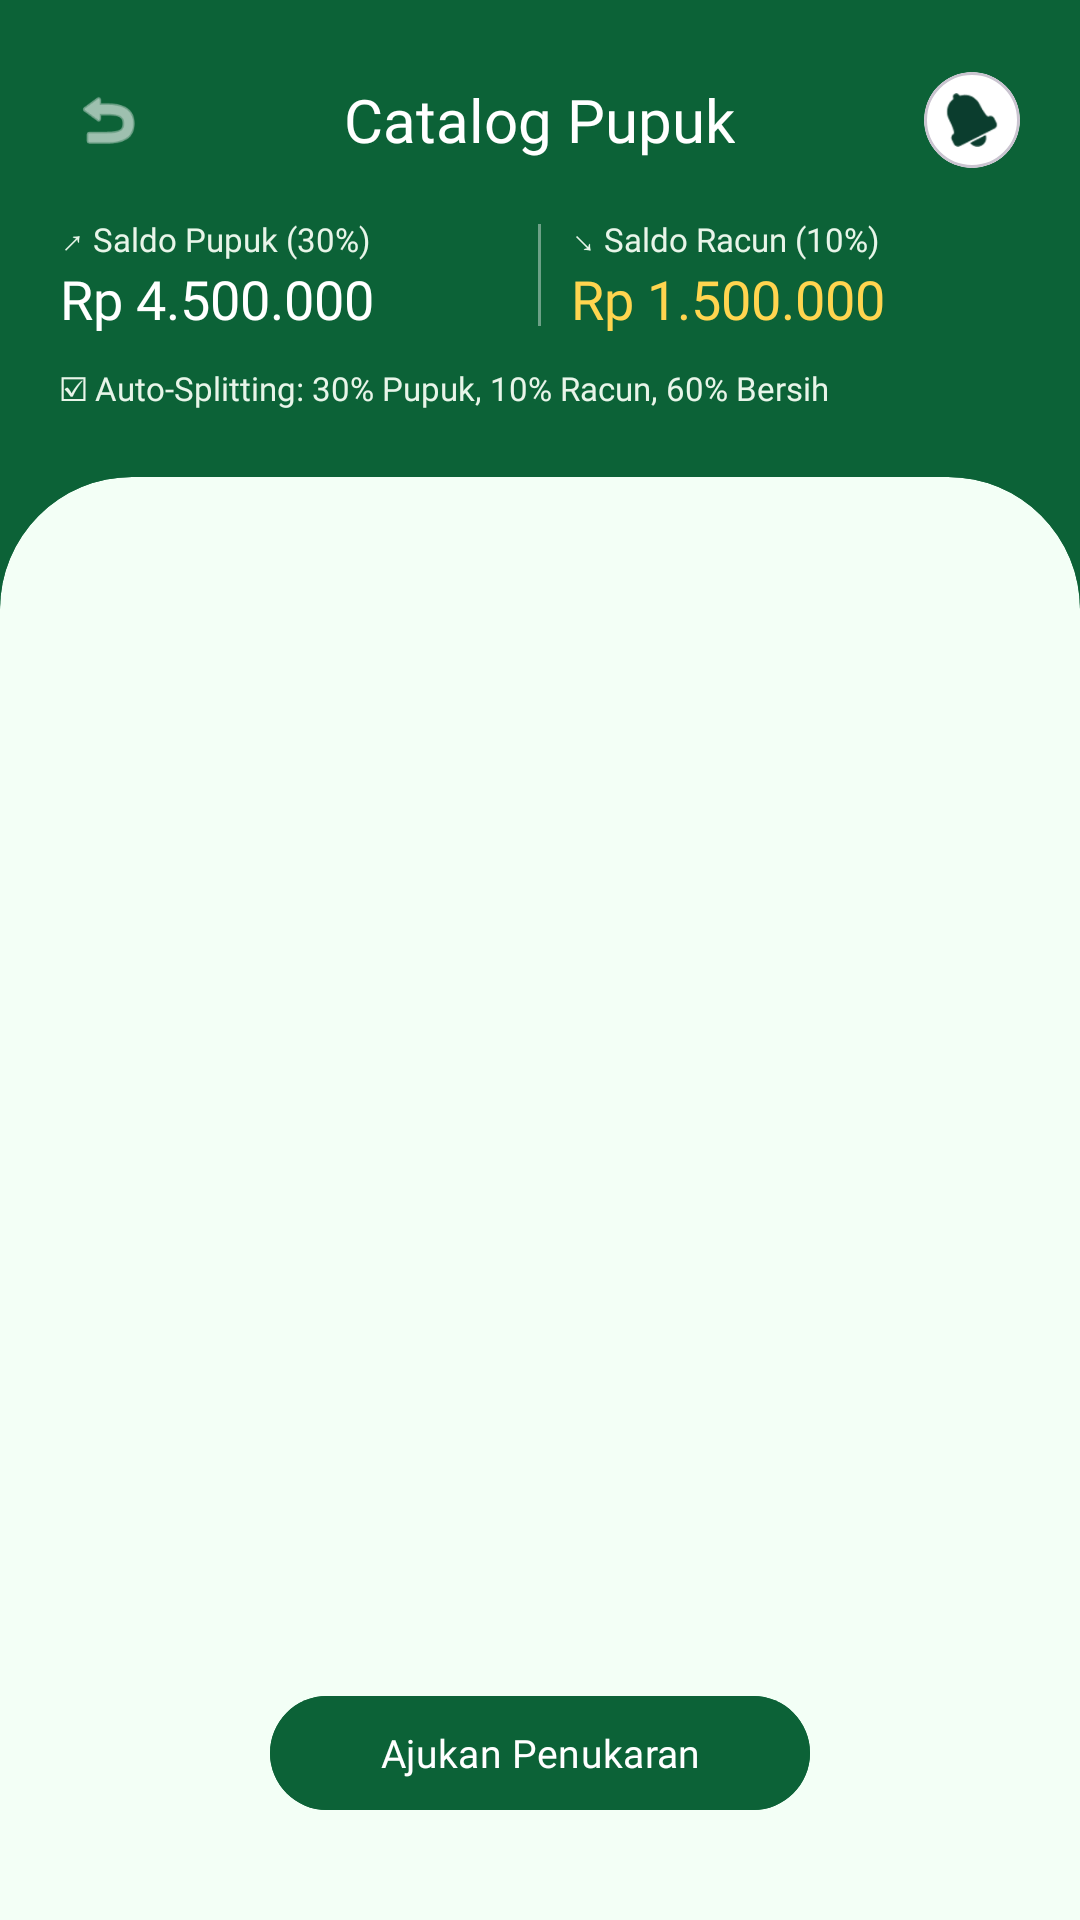

Icon bounding boxes for this 1080 x 1920 phone screenshot, format BBox(x1, y1, x2, y2):
popup reminder: BBox(946, 93, 998, 147)
revert: BBox(83, 97, 135, 144)
